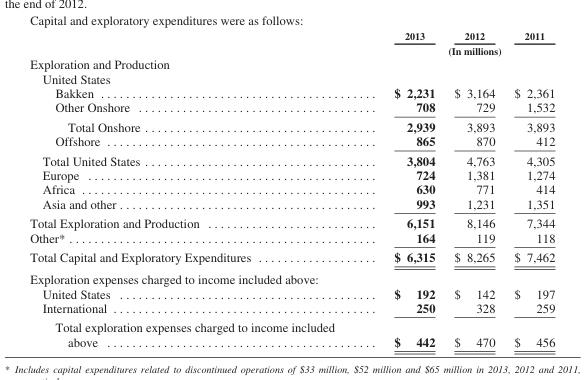table: (29, 29, 554, 348)
table column: (29, 29, 363, 348), (363, 29, 443, 348), (443, 29, 503, 348), (503, 29, 554, 348)
table column header: (29, 29, 554, 56)
table projected row header: (29, 267, 554, 285), (29, 56, 554, 71), (29, 71, 554, 85)
table row: (29, 317, 554, 348), (29, 246, 554, 267), (29, 267, 554, 285), (29, 99, 554, 116), (29, 116, 554, 133), (29, 133, 554, 150), (29, 150, 554, 167), (29, 196, 554, 213), (29, 213, 554, 230), (29, 300, 554, 317), (29, 230, 554, 246), (29, 56, 554, 71), (29, 181, 554, 196), (29, 285, 554, 300), (29, 42, 554, 56), (29, 71, 554, 85), (29, 85, 554, 99), (29, 167, 554, 181), (29, 29, 554, 42)
table spanning cell: (363, 42, 554, 56)
